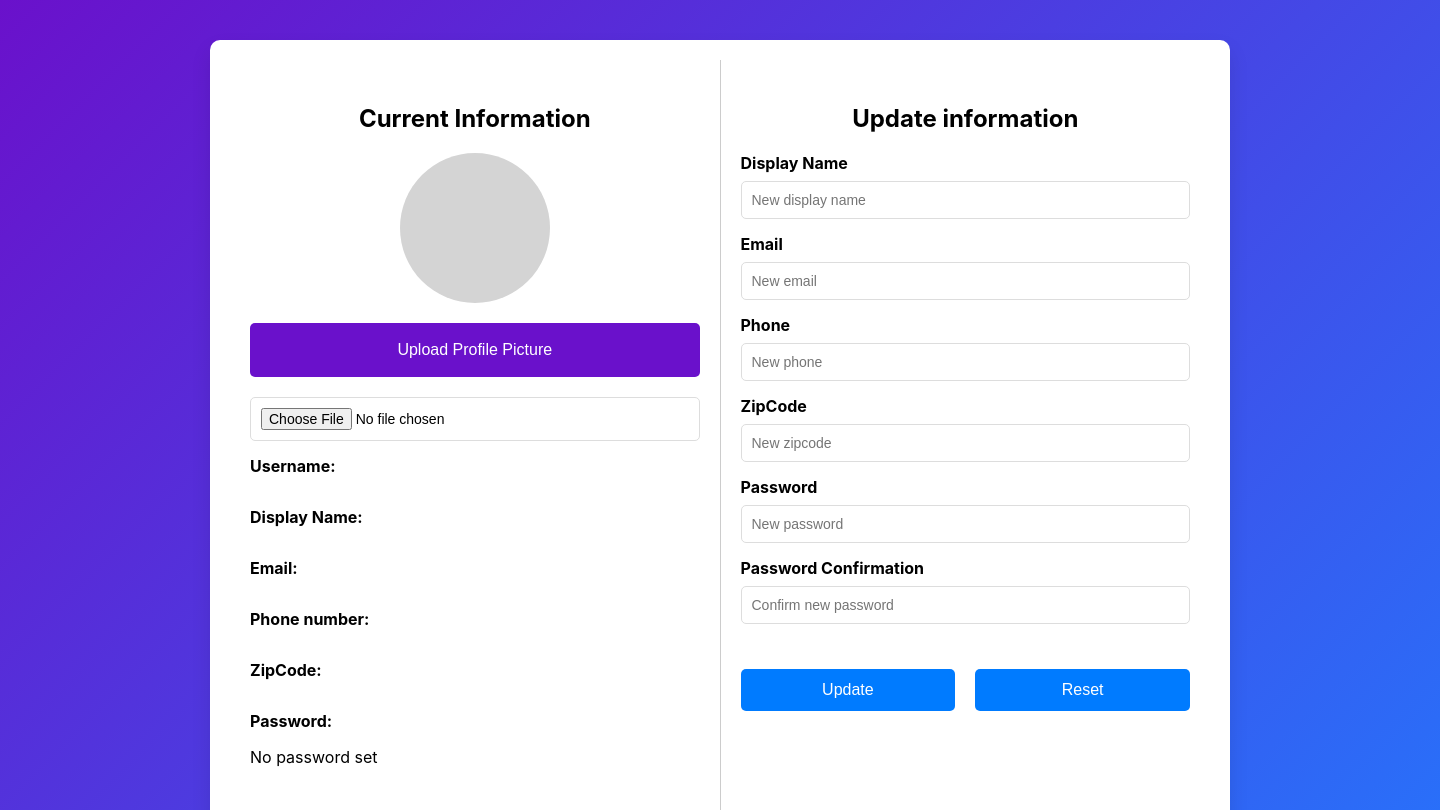
Profile Page Tests › should reset form fields
In the field with placeholder "New display name": (965, 200) [740, 181, 1190, 219], type "Updated User"
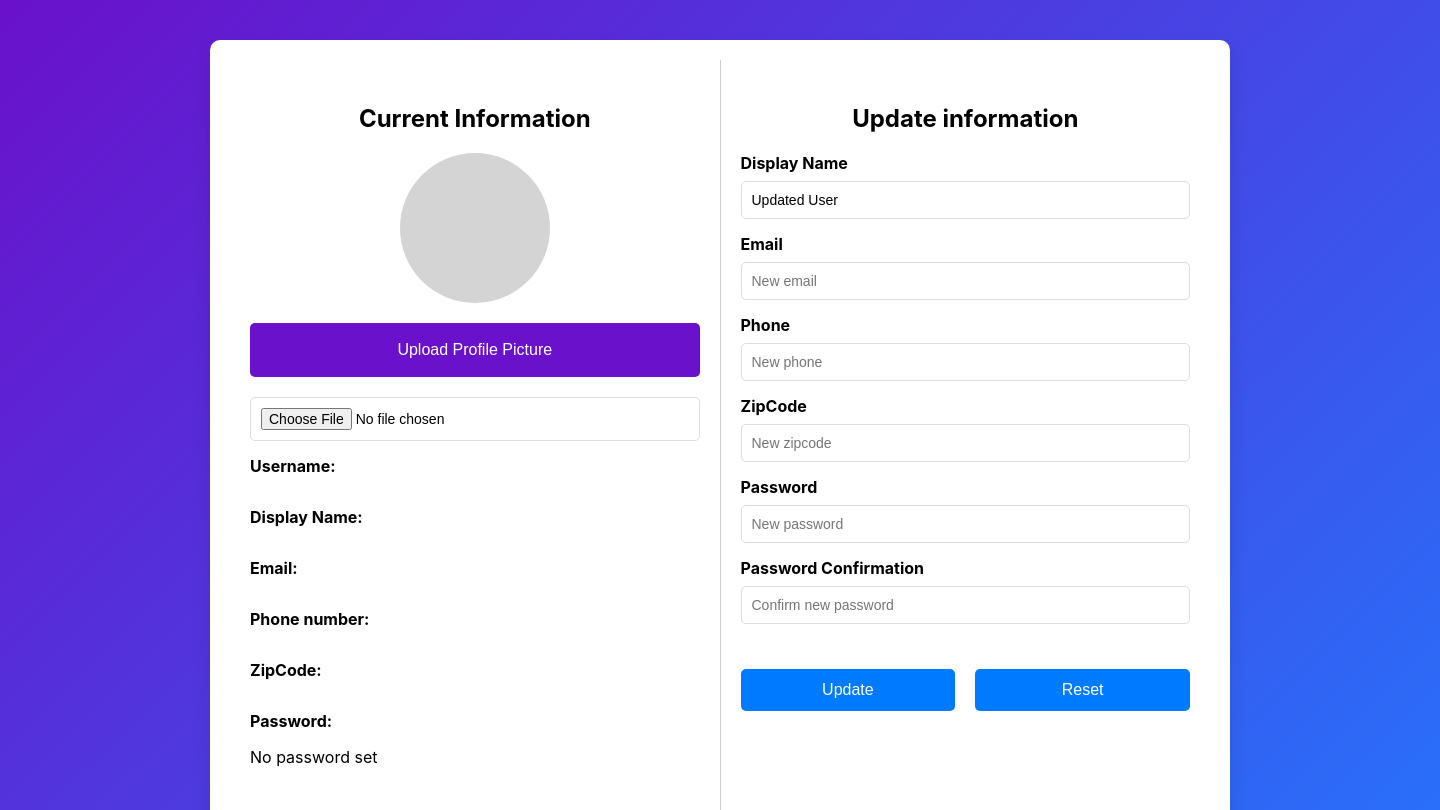
In the field with placeholder "New email": (965, 281) [740, 262, 1190, 300], type "newemail@example.com"
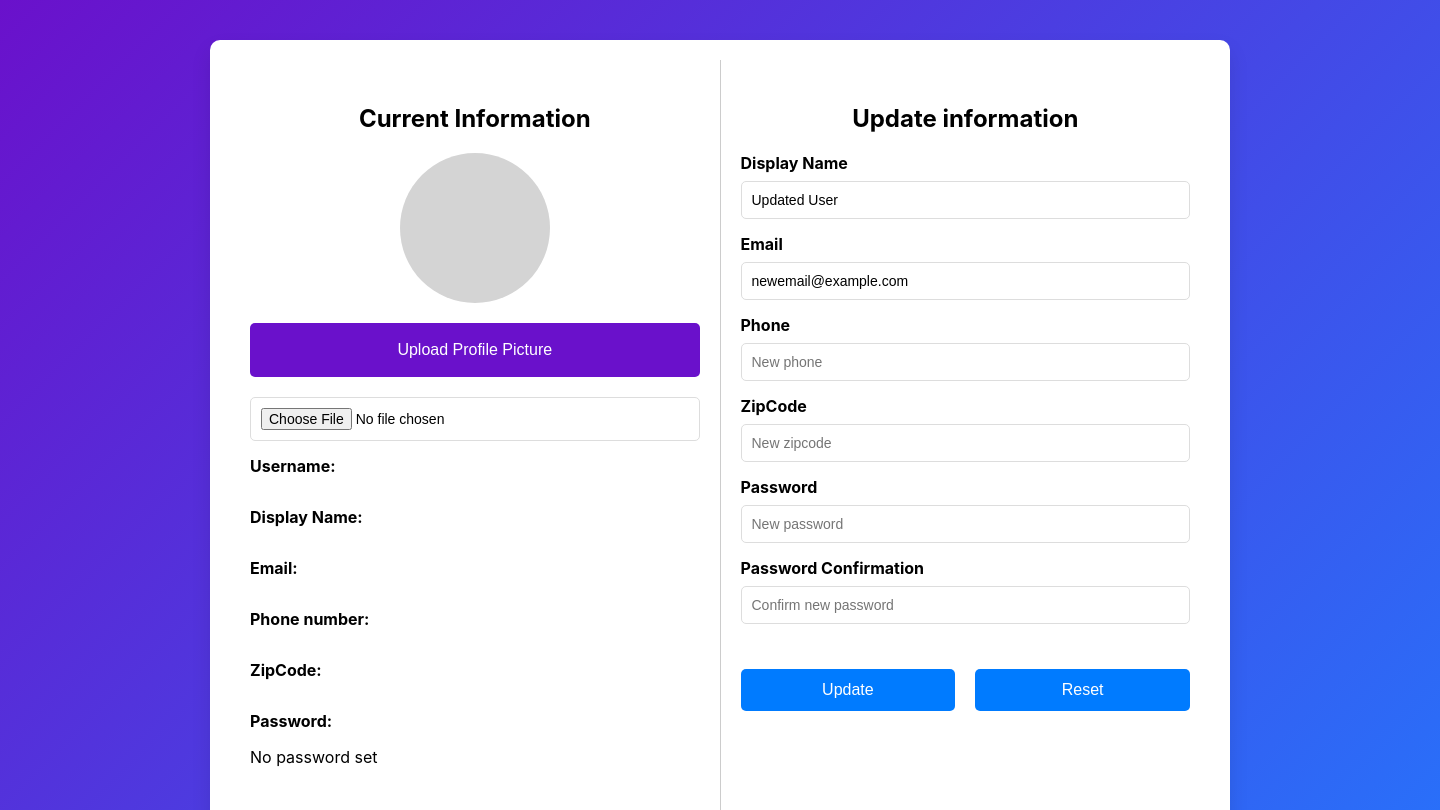
Click the button "Reset": (1083, 690) [975, 669, 1190, 711]
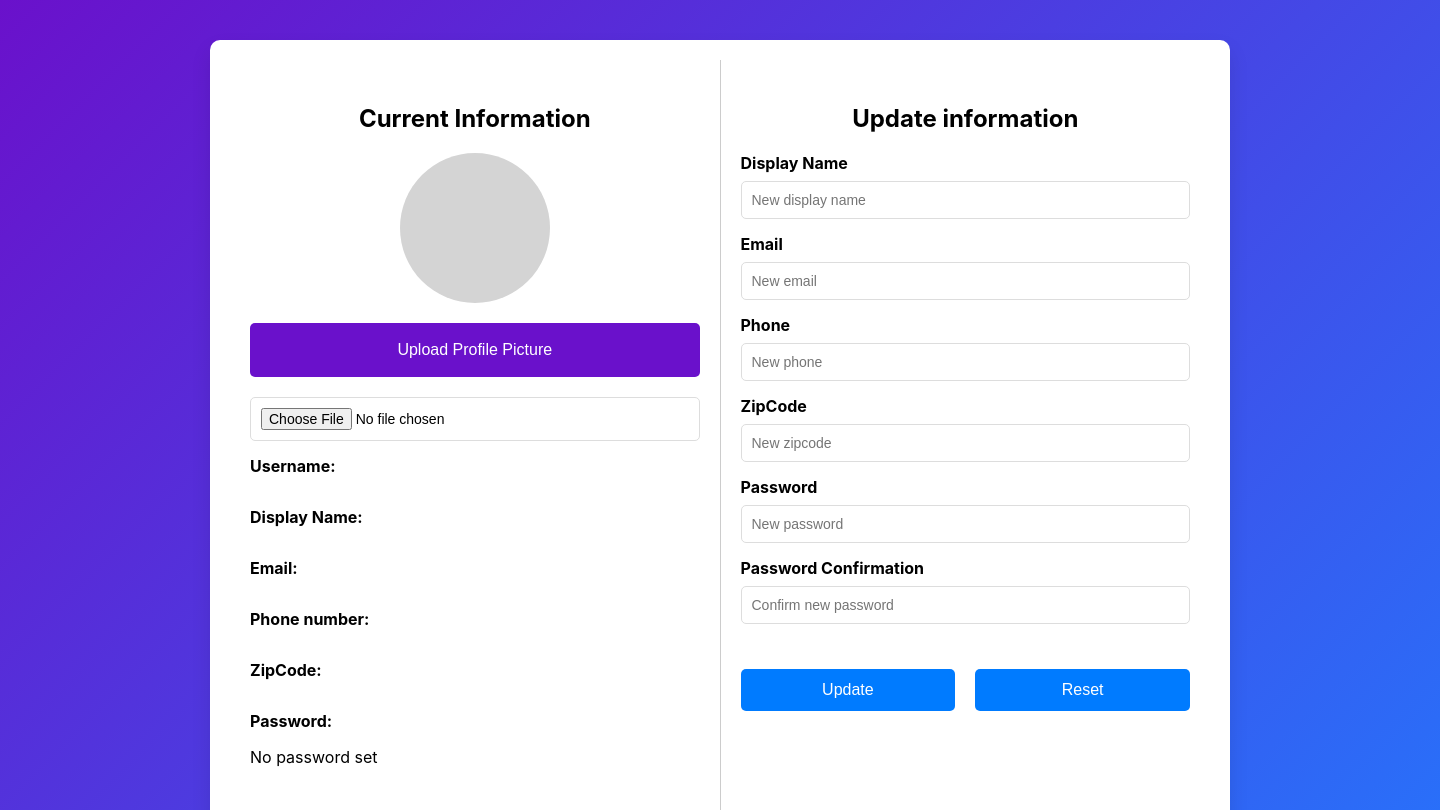
Result: the field with placeholder "New display name" is empty at [740, 181, 1190, 219]
Result: the field with placeholder "New email" is empty at [740, 262, 1190, 300]
